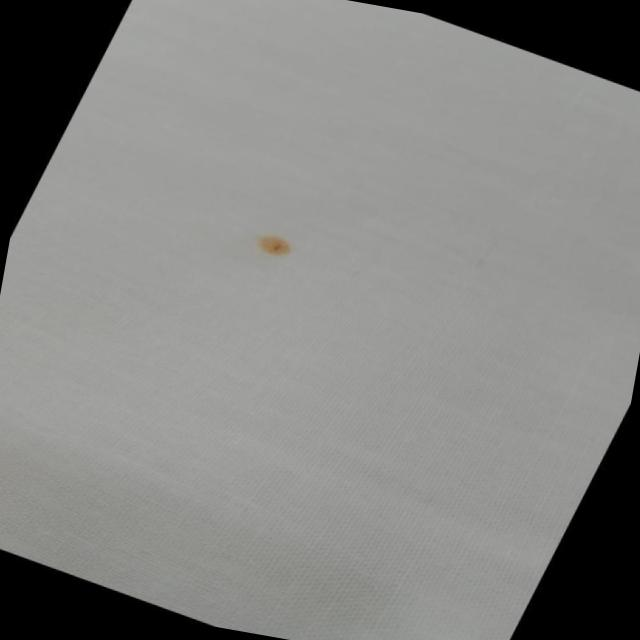stain: (242, 222, 302, 268)
